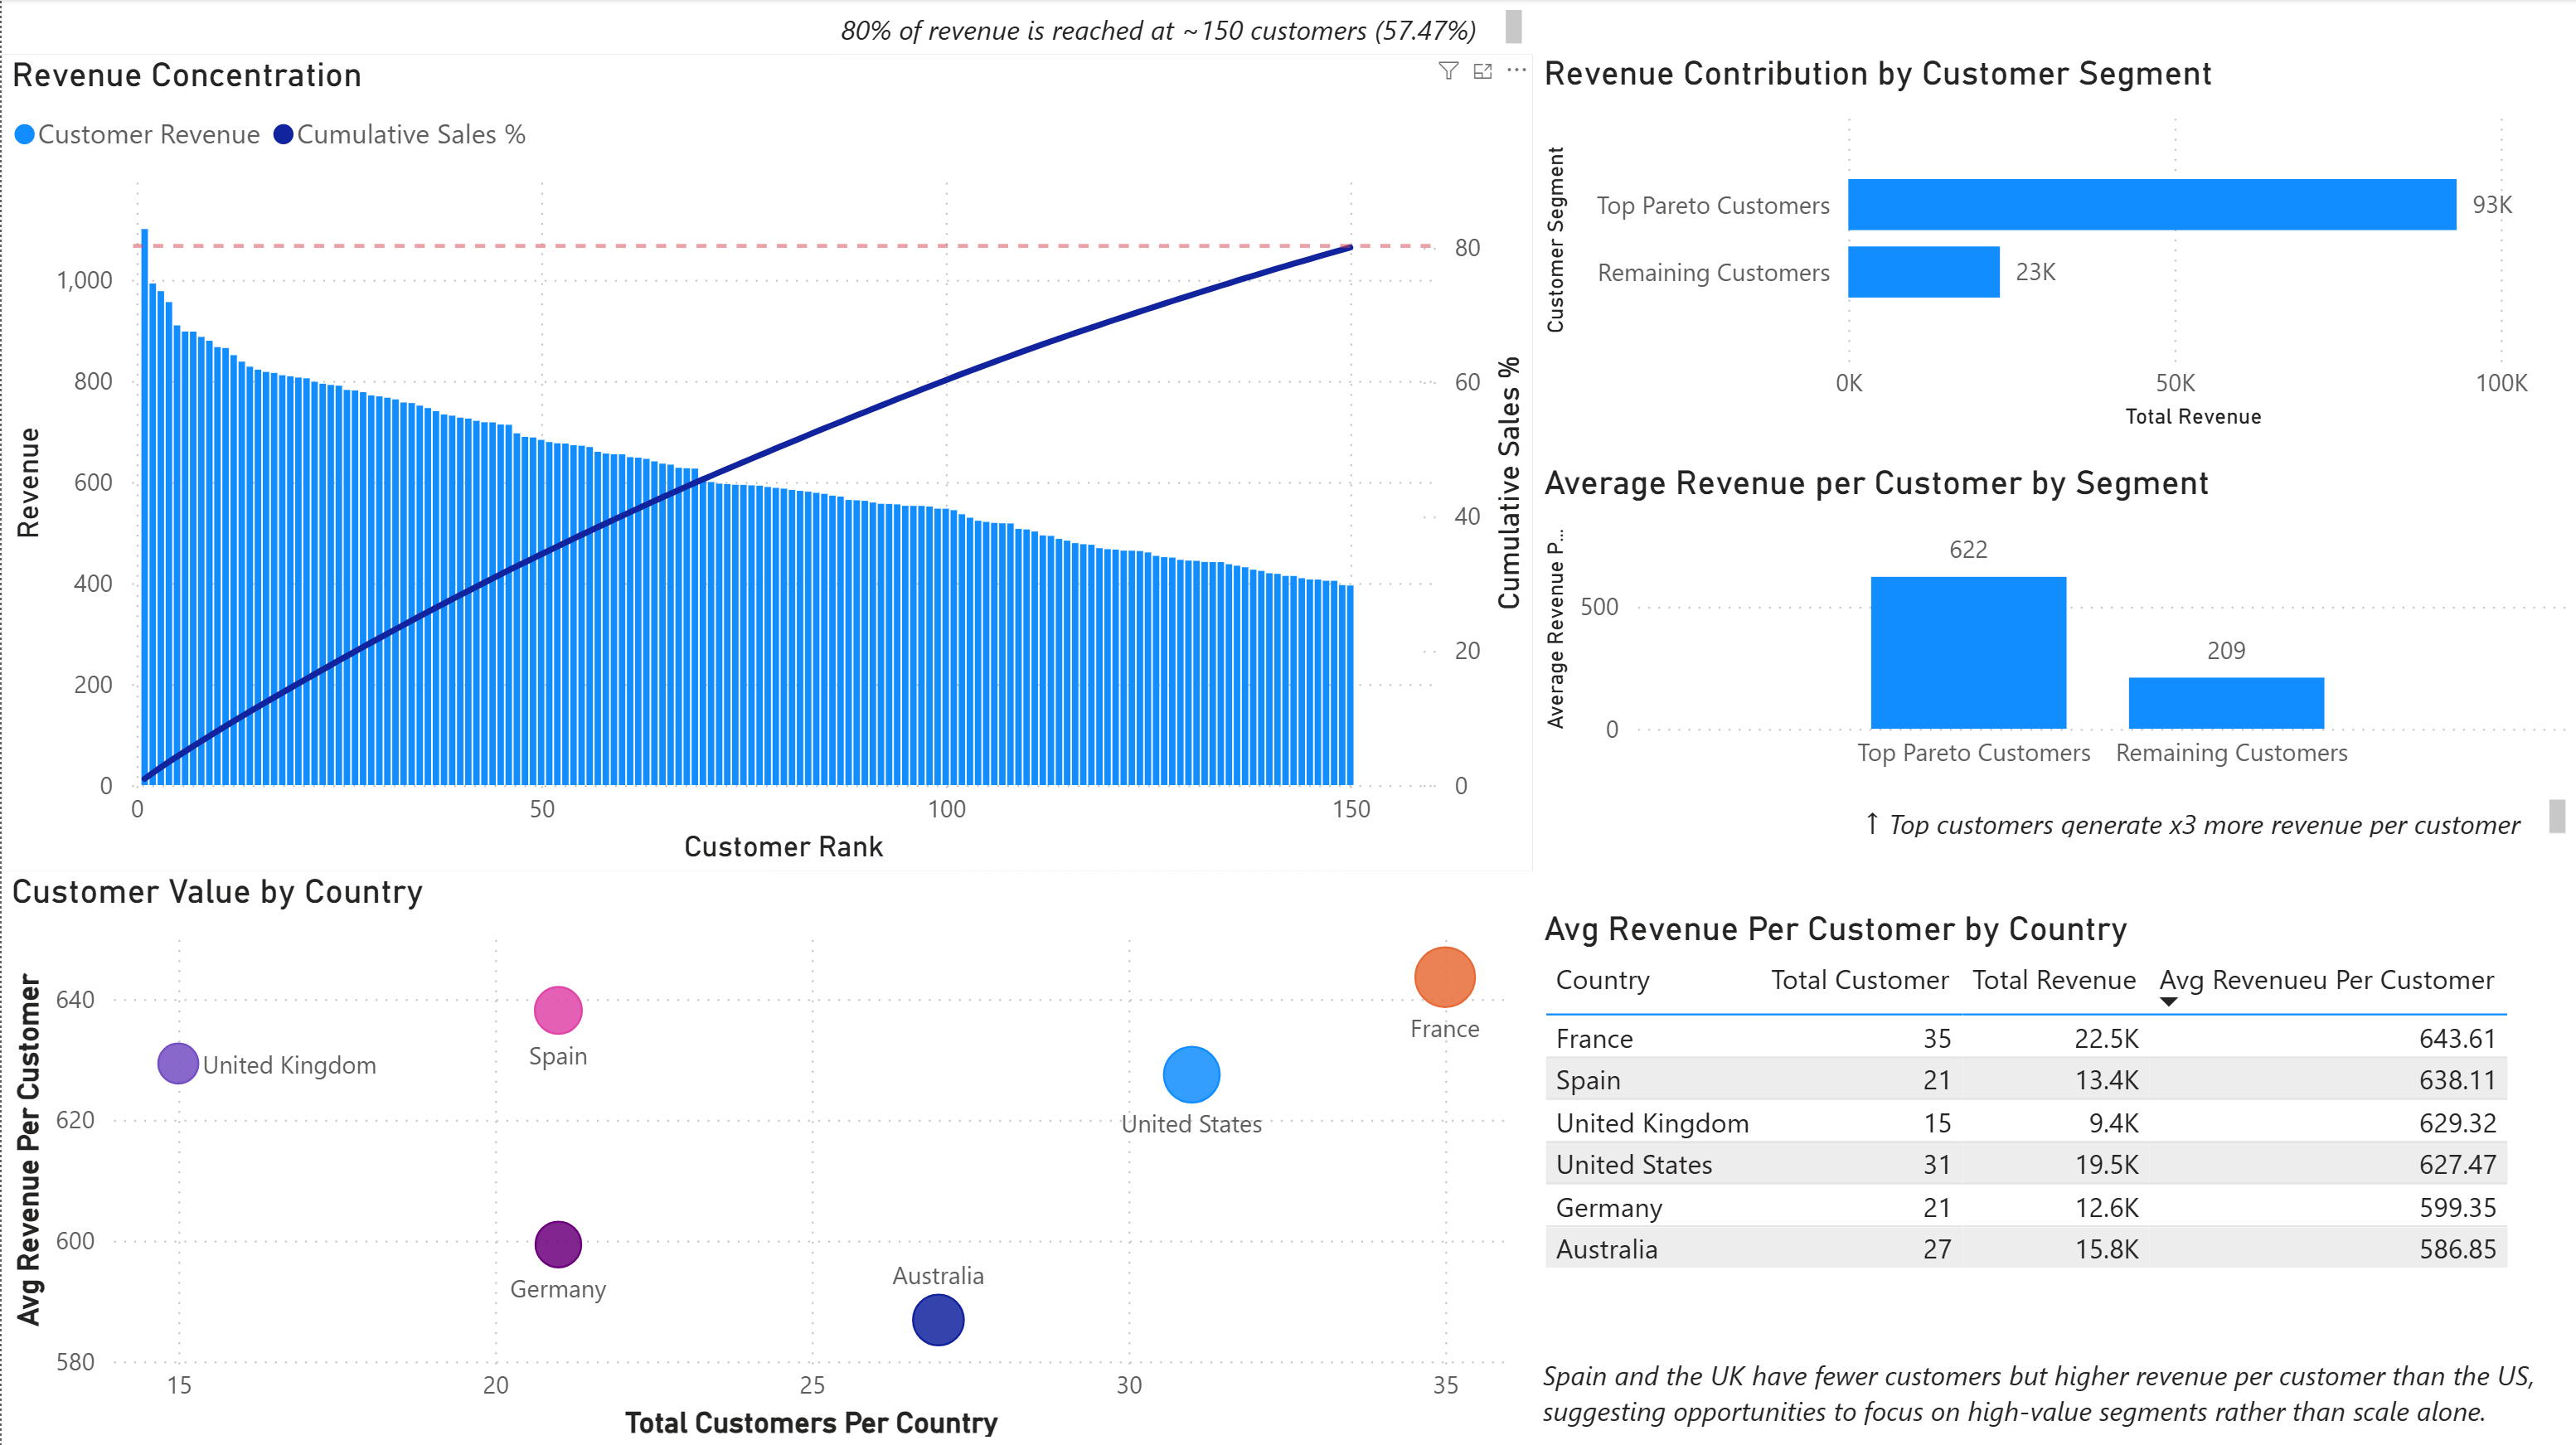

The dashboard page shown, as its layout file describes it:
{"tool":"powerbi","page":{"name":"Page 1","canvas":[1280,720],"ordinal":0},"visuals":[{"type":"lineClusteredColumnComboChart","title":"Revenue Concentration","fields":{"Category":["pareto_top_customers.customer_rank"],"Y":["Sum(pareto_top_customers.customer_revenue)"],"Y2":["Sum(pareto_top_customers.cum_sales_pct)"]},"box":[0,27.2,761,406.2],"z":0},{"type":"textbox","box":[412.5,0,348.2,27.3],"z":1000},{"type":"clusteredBarChart","title":"Revenue Contribution by Customer Segment","fields":{"Category":["pareto_segmentation.customer_segment"],"Y":["Sum(pareto_segmentation.total_revenue)"]},"box":[761.4,26.6,518.4,191],"z":2000},{"type":"clusteredColumnChart","title":"Average Revenue per Customer by Segment","fields":{"Category":["pareto_segmentation.customer_segment"],"Y":["Sum(pareto_segmentation.avg_revenue_per_customer)"]},"box":[761.4,230,518.4,162.4],"z":3000},{"type":"textbox","box":[921.2,392.4,358.6,29.2],"z":4000},{"type":"tableEx","title":"Avg Revenue Per Customer by Country","fields":{"Values":["pareto_country.Country","Sum(pareto_country.top_customer_count)","Sum(pareto_country.total_revenue)","Sum(pareto_country.avg_revenue_per_customer)"]},"box":[761.4,452.1,518.4,204],"z":5000},{"type":"scatterChart","title":"Customer Value by Country","fields":{"Series":["pareto_country.Country"],"X":["Sum(pareto_country.top_customer_count)"],"Size":["Sum(pareto_country.total_revenue)"],"Y":["Sum(pareto_country.avg_revenue_per_customer)"]},"box":[0,433.3,760.7,286.5],"z":6000},{"type":"textbox","box":[760.7,669.1,518.4,50.7],"z":7000}]}

Visuals, with their boxes in screenshot pixels (x1, y1, x2, y2), scaled from the page's 1280x720 canvas onto the 2576x1445 screenshot:
"Revenue Concentration" lineClusteredColumnComboChart: left=0, top=55, right=1531, bottom=870
textbox: left=830, top=0, right=1531, bottom=55
"Revenue Contribution by Customer Segment" clusteredBarChart: left=1532, top=53, right=2575, bottom=437
"Average Revenue per Customer by Segment" clusteredColumnChart: left=1532, top=462, right=2575, bottom=788
textbox: left=1854, top=788, right=2575, bottom=846
"Avg Revenue Per Customer by Country" tableEx: left=1532, top=907, right=2575, bottom=1317
"Customer Value by Country" scatterChart: left=0, top=870, right=1531, bottom=1444
textbox: left=1531, top=1343, right=2574, bottom=1444
